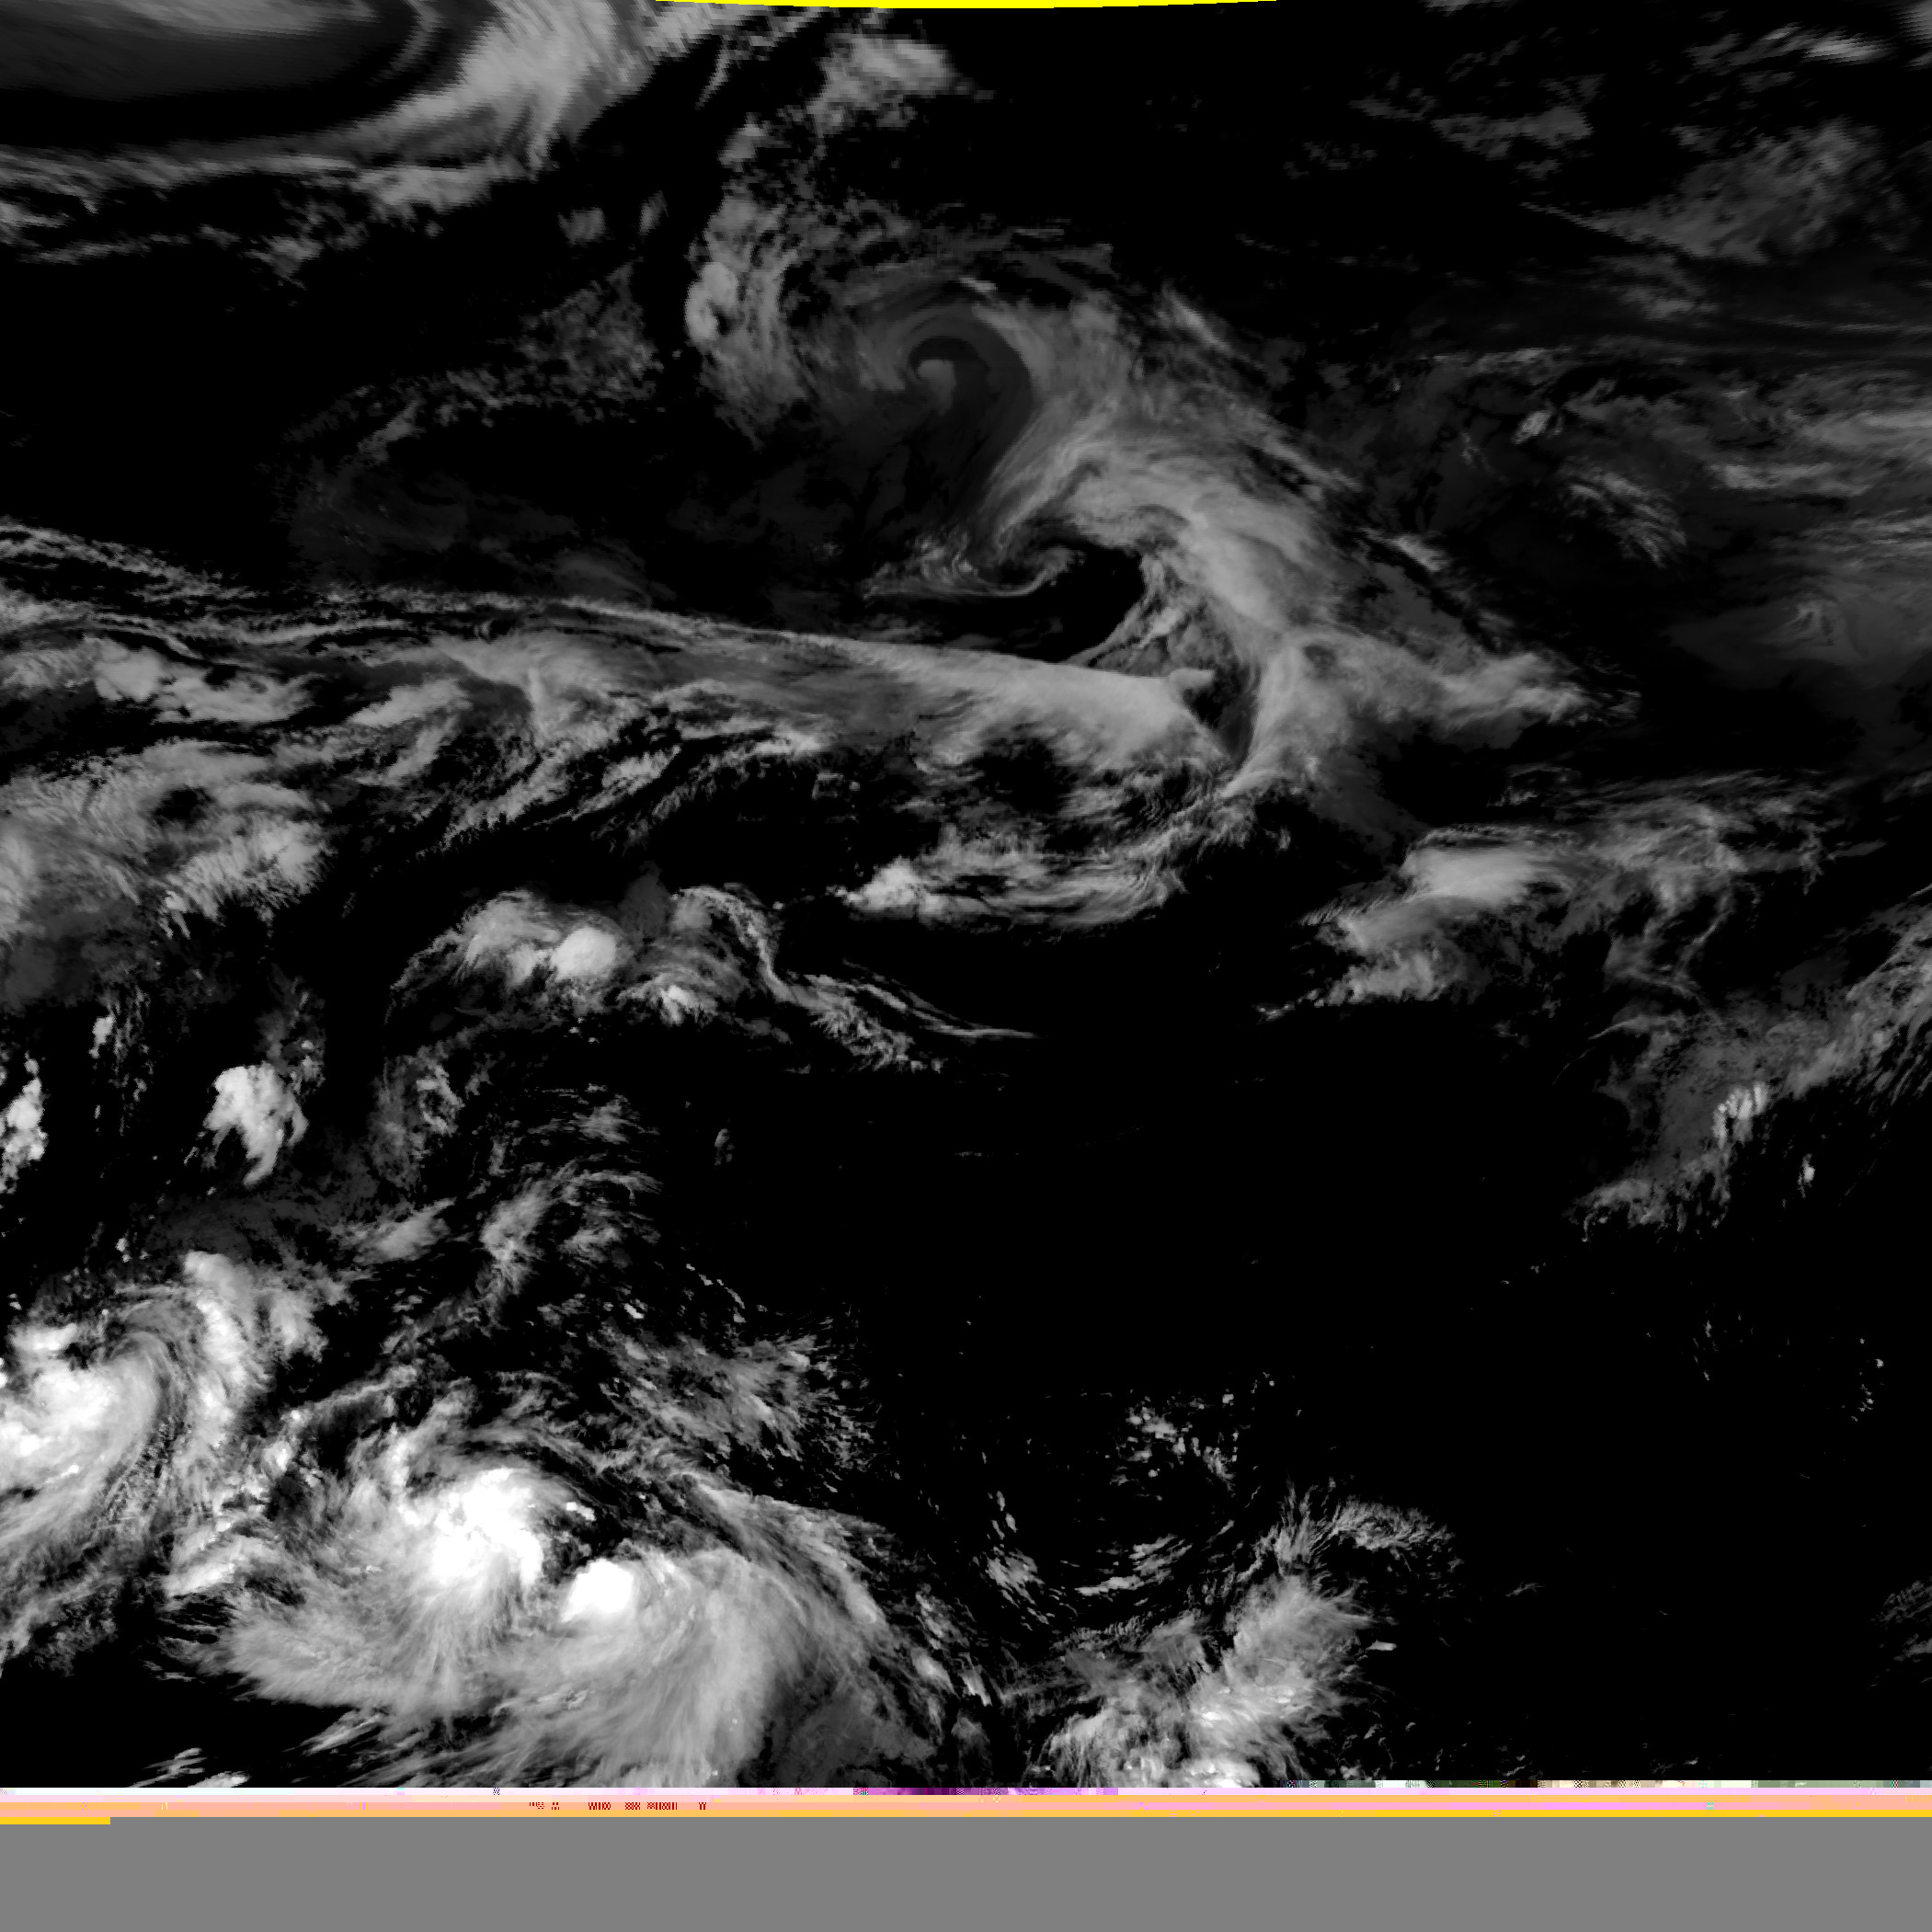Mild storm: (288, 1307, 748, 1767), (0, 1150, 322, 1610)
